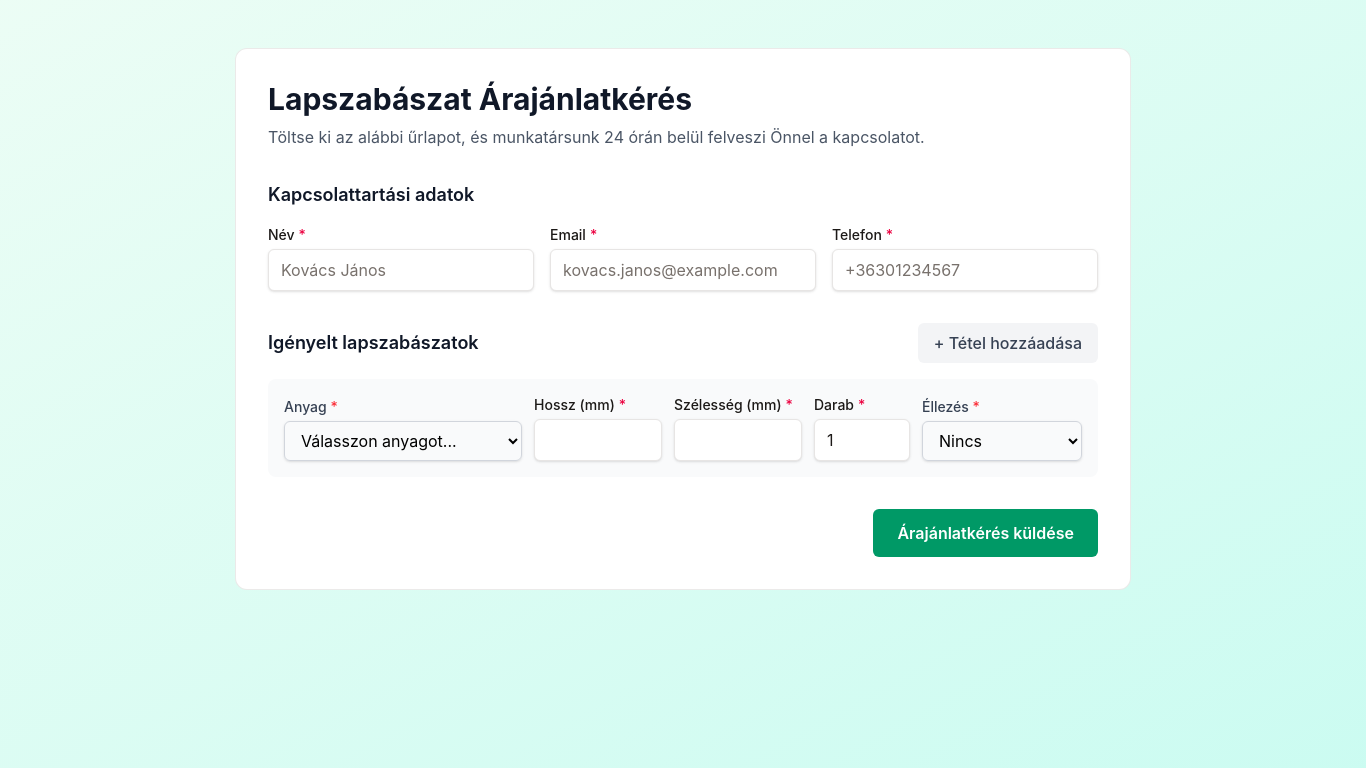
Test: PublicQuoteRequestPage › validates required name field
This screenshot has width=1366, height=768.
Click the button "Árajánlatkérés küldése". click: (986, 533)
box: [874,509,1098,557]
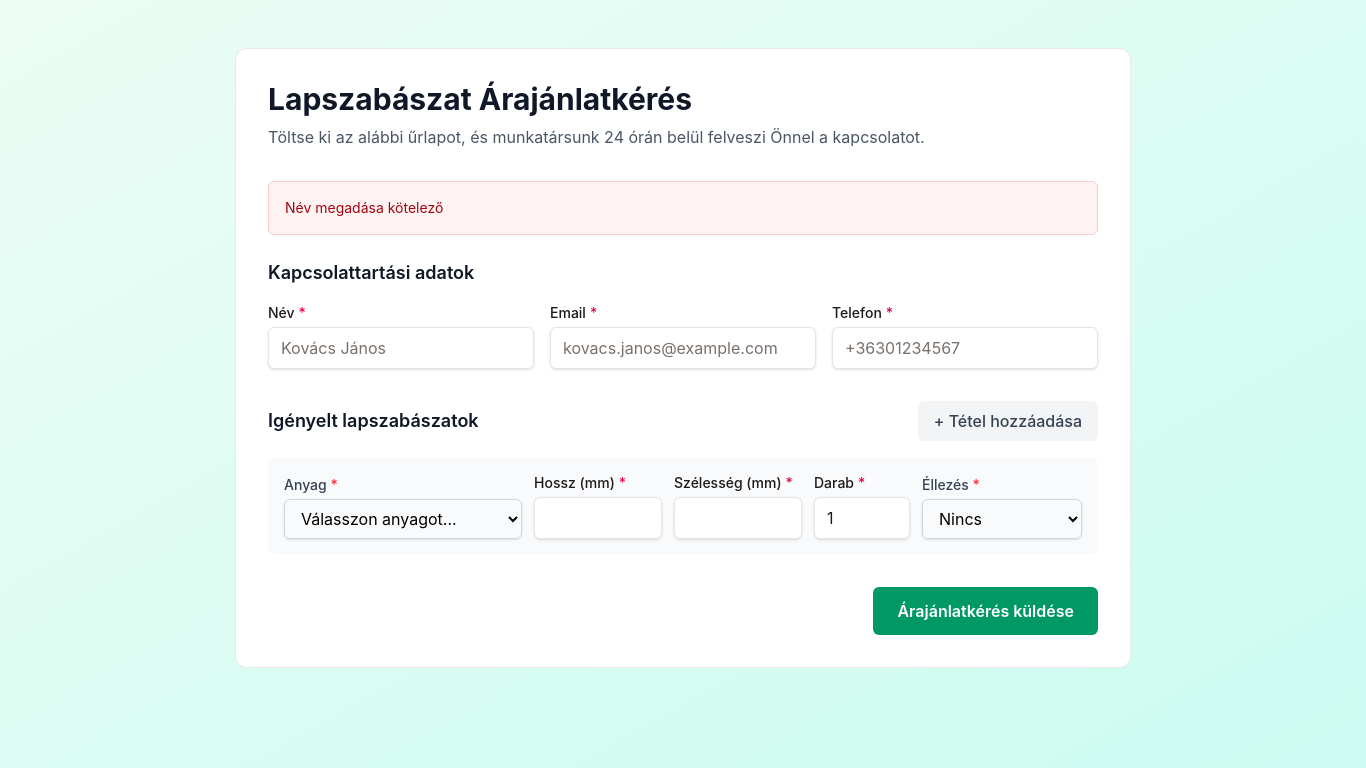
Now the text "Név megadása kötelező" is shown, box [285,199,443,216]
